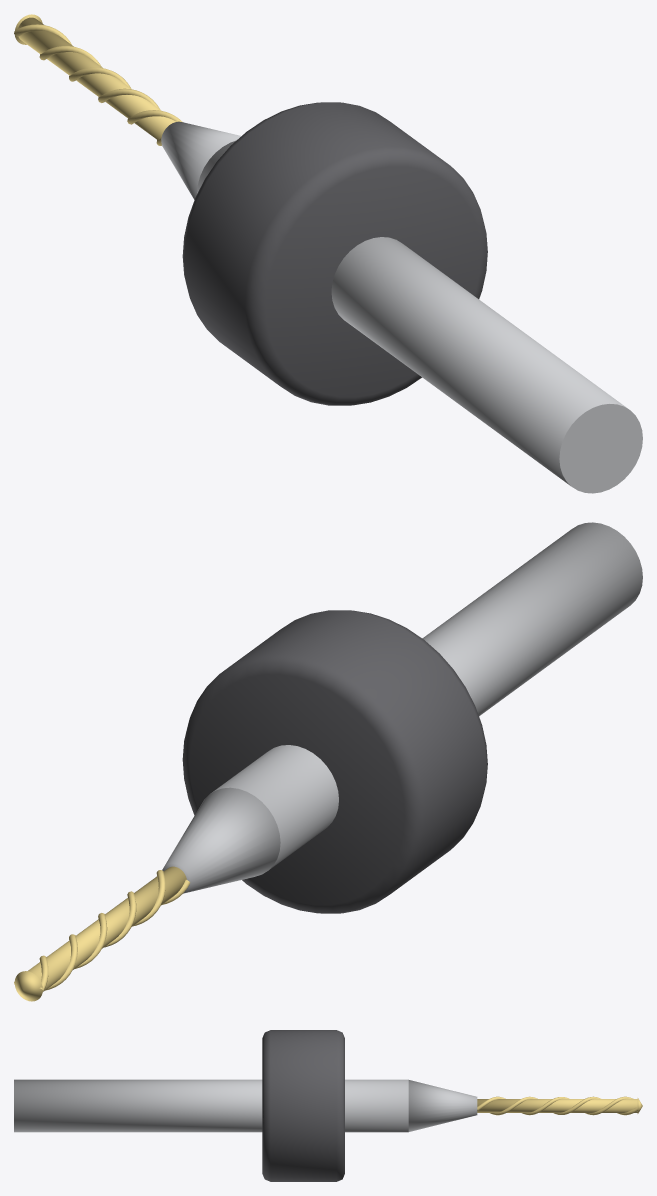
The model's file is drill18_1p1.glb.
3 views of the same model, one above another, from view 1: azimuth 30°, elevation 25°; view 2: azimuth 150°, elevation 25°; view 3: azimuth 270°, elevation 25° (orthographic). The views are drawn at different scales.
Parts seen in each view (by area): view 1: Cylinder.002, Cylinder.001, Cylinder, Cone, flute, flute.001; view 2: Cylinder.002, Cylinder.001, Cone, Cylinder, flute, flute.001, Cone.001; view 3: Cylinder.001, Cylinder.002, Cone, Cylinder, flute, flute.001.
Part boxes in pixels (left/top/right/bottom): Cylinder.002: left=182, top=102, right=487, bottom=405; Cylinder.001: left=197, top=140, right=642, bottom=493; Cylinder: left=18, top=17, right=176, bottom=140; Cone: left=161, top=121, right=241, bottom=199; flute: left=14, top=24, right=182, bottom=124; flute.001: left=39, top=46, right=161, bottom=145; Cylinder.002: left=182, top=610, right=487, bottom=913; Cylinder.001: left=210, top=522, right=642, bottom=869; Cone: left=162, top=787, right=280, bottom=893; Cylinder: left=27, top=866, right=186, bottom=990; flute: left=39, top=870, right=165, bottom=991; flute.001: left=14, top=879, right=190, bottom=990; Cone.001: left=14, top=971, right=42, bottom=1001; Cylinder.001: left=14, top=1079, right=408, bottom=1132; Cylinder.002: left=262, top=1030, right=344, bottom=1181; Cone: left=408, top=1080, right=477, bottom=1131; Cylinder: left=477, top=1099, right=637, bottom=1112; flute: left=477, top=1096, right=633, bottom=1115; flute.001: left=490, top=1096, right=638, bottom=1115.
Bounding box in the file's own units: 0.00917 × 0.00917 × 0.038.
